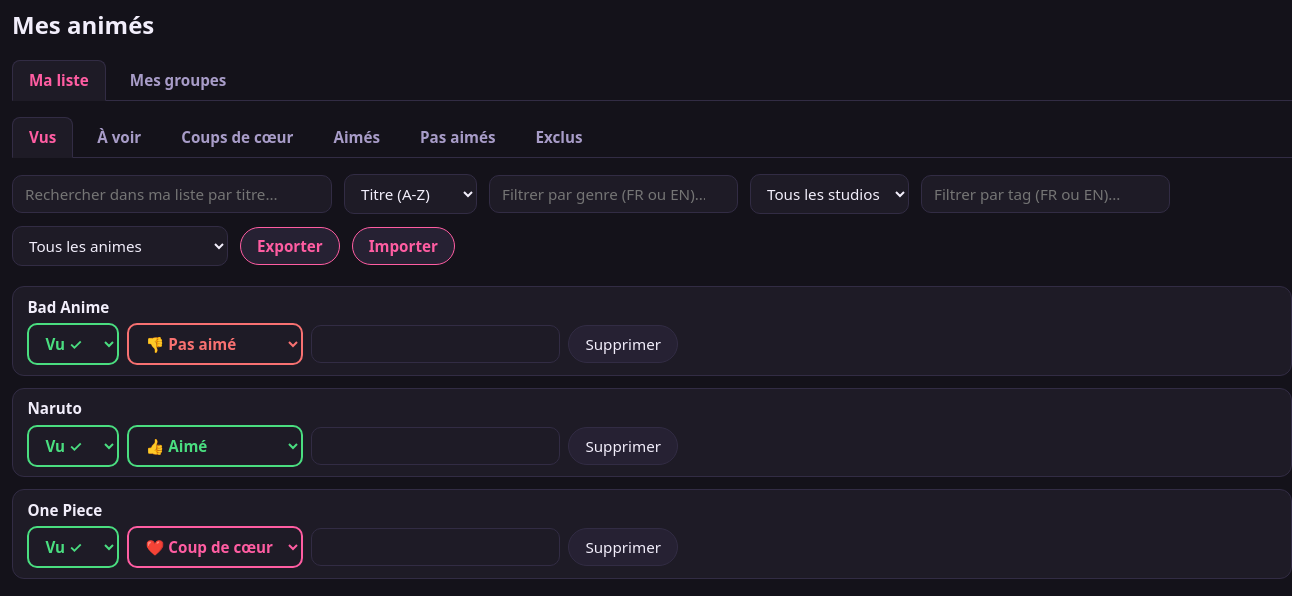
MyList › filters by note on the "Aimés" and "Pas aimés" tabs
Click the tab "Aimés" at (357,137), box x1=318 y1=117 x2=396 y2=157
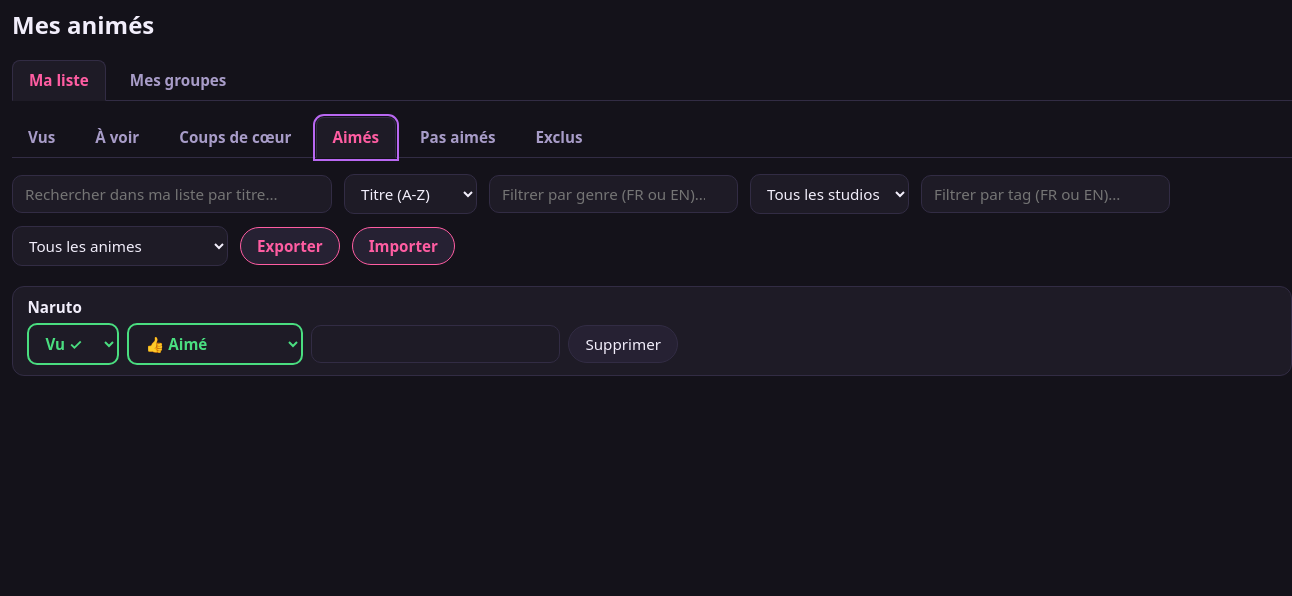
Expected: the button "Naruto" is shown, x1=27 y1=297 x2=1277 y2=317
Now the button "One Piece" is gone
Click the tab "Pas aimés" at (458,137), box x1=404 y1=117 x2=512 y2=157
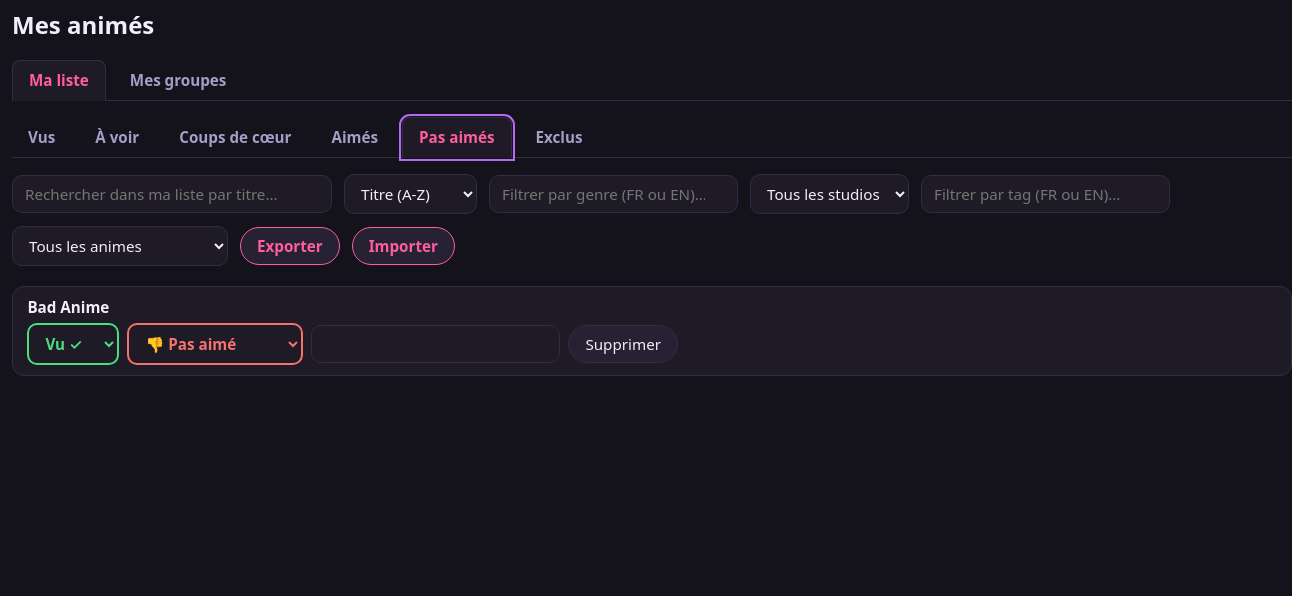
Now the button "Bad Anime" is shown, box x1=27 y1=297 x2=1277 y2=317
Now the button "Naruto" is gone
